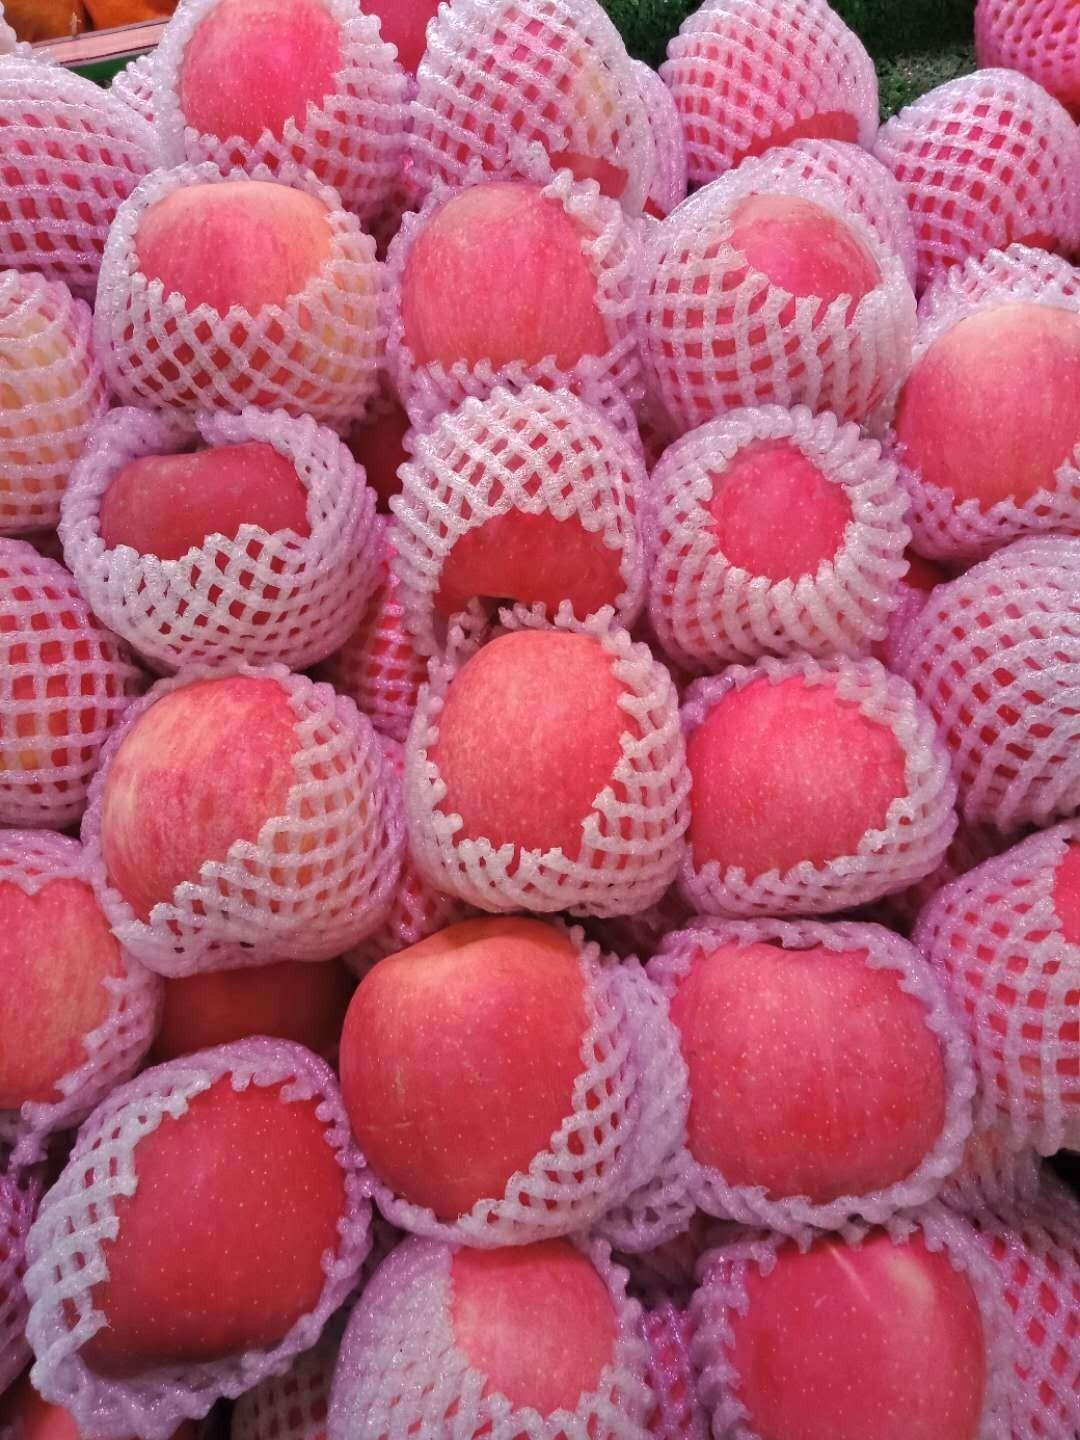apple: (26, 1032, 376, 1390), (95, 664, 396, 983), (351, 904, 636, 1226), (407, 595, 687, 903), (88, 167, 395, 435), (647, 927, 931, 1211), (675, 663, 951, 922), (323, 1234, 621, 1433), (888, 294, 1080, 564), (0, 835, 159, 1132)
